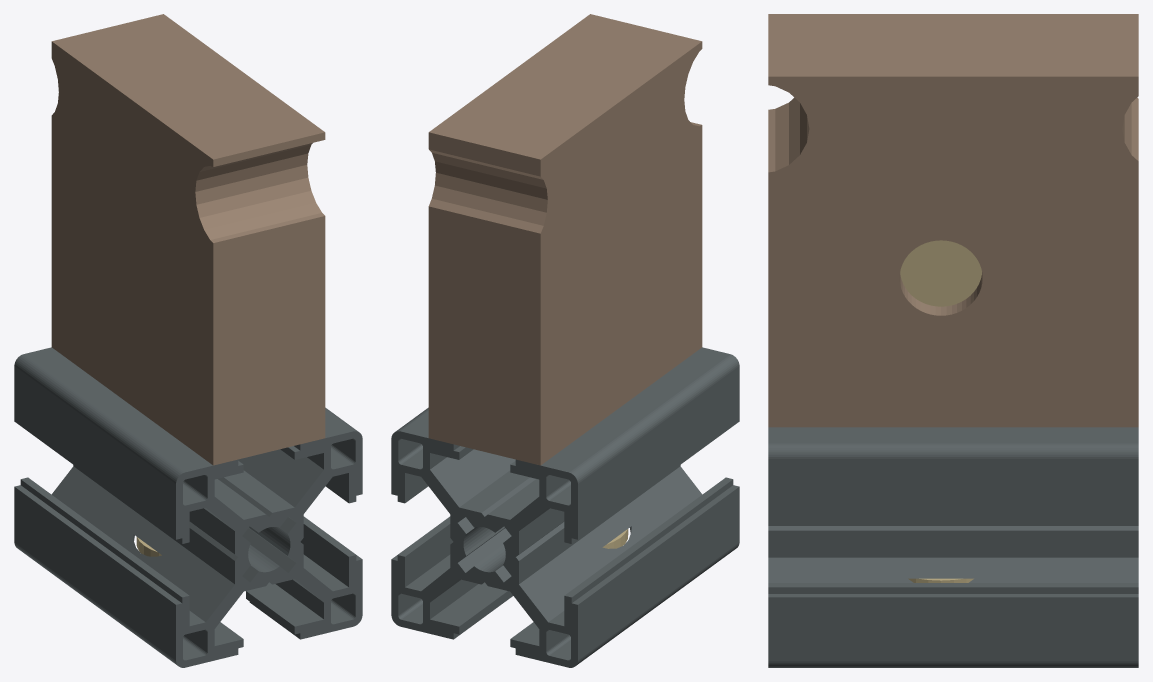
File: pegboard-mount-detail.glb
The picture shows the model from 3 angles, left to right: view 1: azimuth 30°, elevation 25°; view 2: azimuth 150°, elevation 25°; view 3: azimuth 270°, elevation 25°; orthographic projection. The views are drawn at different scales.
Parts seen in each view (by area): view 1: Left-pegboard-18, Beam-body-side-4; view 2: Left-pegboard-18, Beam-body-side-4; view 3: Left-pegboard-18, Beam-body-side-4, Pegboard-cross-dowel-Bottom-97.
Boxes of the visible parts, x1,y1,x2,y2 form: Left-pegboard-18: (51,14,325,465); Beam-body-side-4: (14,347,362,667); Left-pegboard-18: (428,14,702,465); Beam-body-side-4: (391,347,739,667); Left-pegboard-18: (768,14,1138,427); Beam-body-side-4: (768,427,1138,667); Pegboard-cross-dowel-Bottom-97: (900,240,981,306).
Size of the model in its own units: 0.03 by 0.077 by 0.045.
